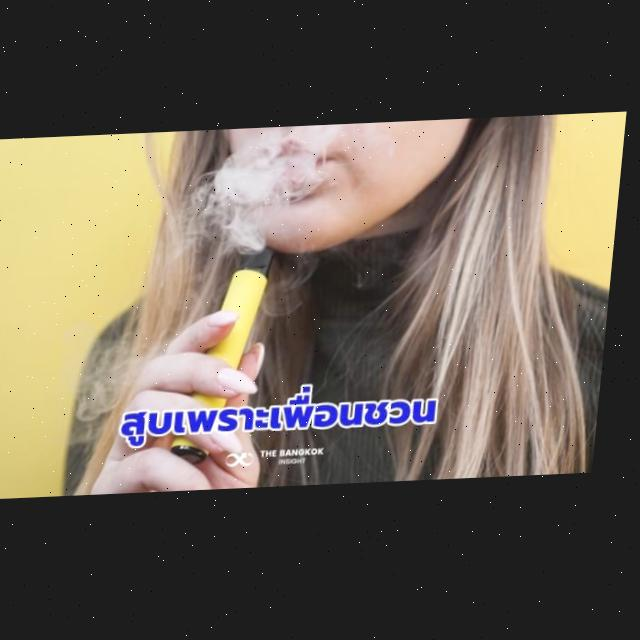vape: (179, 245, 280, 467)
